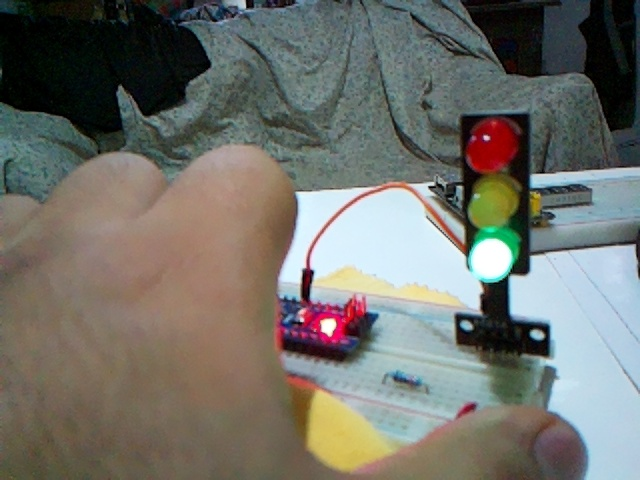traffic_light_green: (461, 112, 529, 282)
